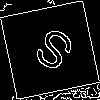S: (25, 25, 78, 82)
